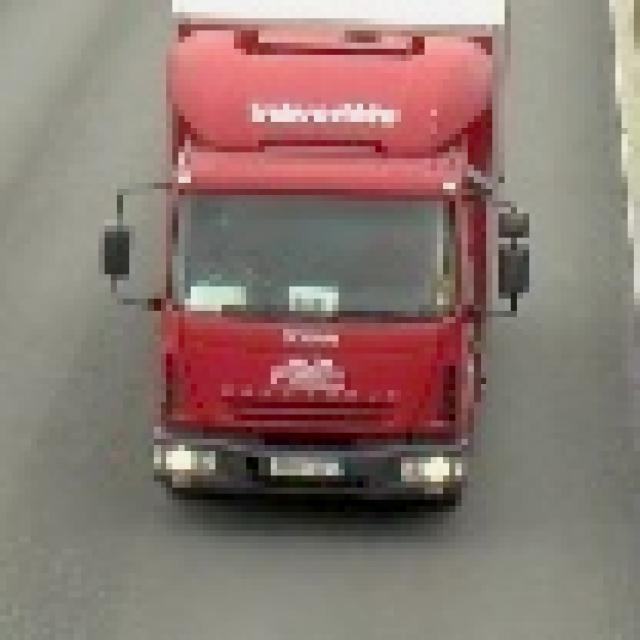truck: (100, 1, 524, 513)
